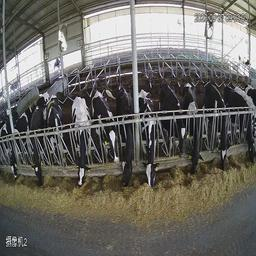cow: (136, 80, 161, 200), (4, 90, 32, 193), (115, 77, 139, 194), (183, 81, 209, 188), (95, 79, 120, 187), (161, 74, 188, 171), (208, 79, 232, 181), (46, 89, 71, 184), (72, 91, 94, 194), (232, 77, 255, 167), (26, 94, 45, 187)
